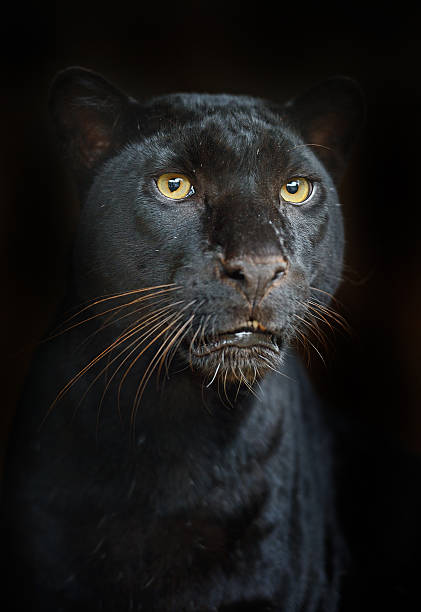panther: (5, 44, 396, 458)
